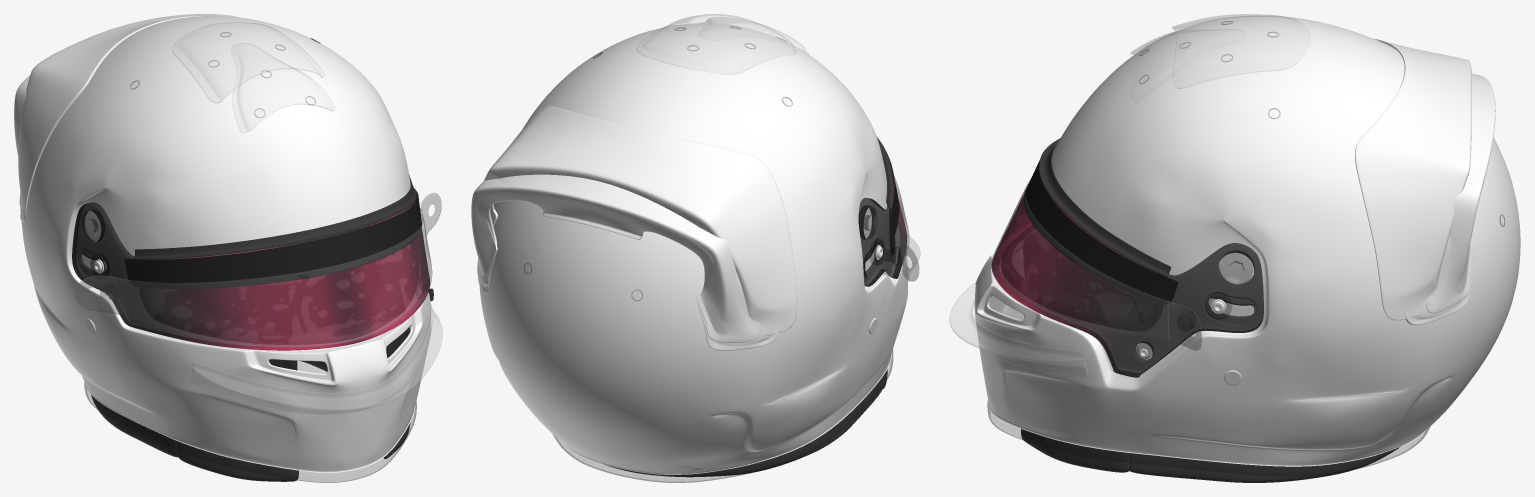
File: helmet.glb
The picture shows the model from 3 angles, left to right: view 1: azimuth 30°, elevation 25°; view 2: azimuth 150°, elevation 25°; view 3: azimuth 270°, elevation 25°; orthographic projection. The views are drawn at different scales.
Visible parts, largest first — view 1: helmet_shell, visor_glass, visor_tearoff, helmet_shell_padding, visor_sticker, ped_rear_2020, ped_top_C_Upper, front_spoiler_ped, ped_top_C_Lower, visor_rubber, visor_water_seal, airIntakes_F (+2 smaller); view 2: helmet_shell, ped_rear_2020, ped_rear_legacy_L, ped_rear_legacy_S, ped_top_C_Upper, visor_glass, helmet_shell_padding, ped_top_C_Lower, visor_tearoff; view 3: helmet_shell, ped_rear_2020, visor_glass, visor_tearoff, helmet_shell_padding, ped_top_C_Upper, visor_sticker, front_spoiler_ped, ped_top_C_Lower, ped_rear_legacy_S, ped_rear_legacy_L, visor_water_seal (+2 smaller).
Boxes of the visible parts, x1,y1,x2,y2 form: helmet_shell: (21, 15, 431, 482); visor_glass: (72, 175, 433, 350); visor_tearoff: (75, 193, 441, 348); helmet_shell_padding: (91, 245, 410, 481); visor_sticker: (124, 188, 421, 288); ped_rear_2020: (18, 14, 237, 220); ped_top_C_Upper: (172, 22, 324, 102); front_spoiler_ped: (191, 305, 442, 414); ped_top_C_Lower: (231, 43, 335, 132); visor_rubber: (139, 203, 417, 344); visor_water_seal: (134, 182, 416, 259); airIntakes_F: (269, 326, 410, 373); helmet_shell: (479, 23, 908, 482); ped_rear_2020: (484, 106, 797, 335); ped_rear_legacy_L: (476, 174, 780, 350); ped_rear_legacy_S: (471, 178, 760, 342); ped_top_C_Upper: (636, 14, 796, 74); visor_glass: (858, 174, 906, 286); helmet_shell_padding: (604, 369, 887, 477); ped_top_C_Lower: (699, 17, 808, 54); visor_tearoff: (894, 176, 919, 281); helmet_shell: (974, 16, 1520, 475); ped_rear_2020: (1355, 38, 1471, 320); visor_glass: (991, 195, 1263, 377); visor_tearoff: (991, 181, 1201, 350); helmet_shell_padding: (1021, 231, 1400, 482); ped_top_C_Upper: (1172, 14, 1310, 88); visor_sticker: (1023, 160, 1178, 304); front_spoiler_ped: (949, 282, 1087, 376); ped_top_C_Lower: (1130, 29, 1245, 103); ped_rear_legacy_S: (1426, 73, 1495, 313); ped_rear_legacy_L: (1404, 74, 1495, 325); visor_water_seal: (1039, 138, 1171, 276).
Size of the model in its own units: 35.88 by 33.89 by 44.63.
12 materials, 8 textured.
